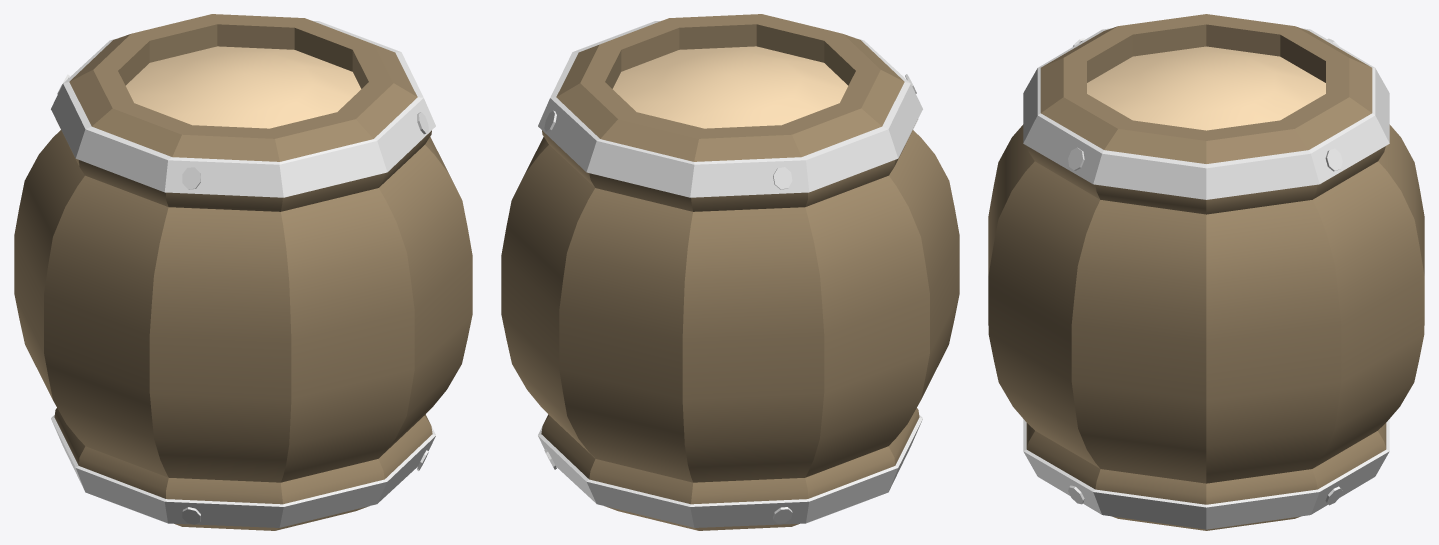
Rendered from small_barrel_01_filled.fbx.
3 views of the same model, side by side, from view 1: azimuth 30°, elevation 25°; view 2: azimuth 150°, elevation 25°; view 3: azimuth 270°, elevation 25° (orthographic).
Parts seen in each view (by area): view 1: small_barrel_01_filled; view 2: small_barrel_01_filled; view 3: small_barrel_01_filled.
Boxes of the visible parts, x1,y1,x2,y2 form: small_barrel_01_filled: (14, 14, 472, 530); small_barrel_01_filled: (501, 14, 959, 530); small_barrel_01_filled: (988, 14, 1424, 530).
Size of the model in its own units: 154 by 145 by 147.
